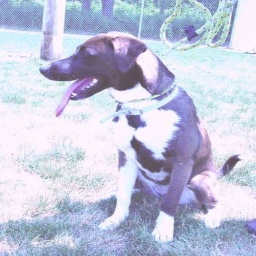dog: (38, 24, 240, 248)
